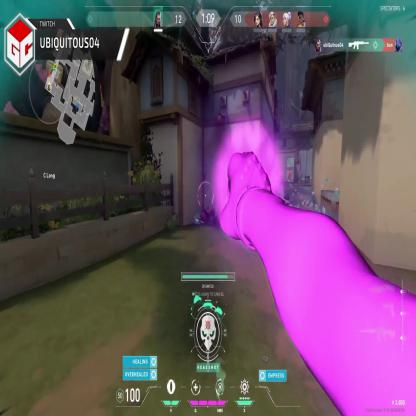enemy: (288, 169, 292, 182)
enemy_head: (289, 169, 290, 172)
